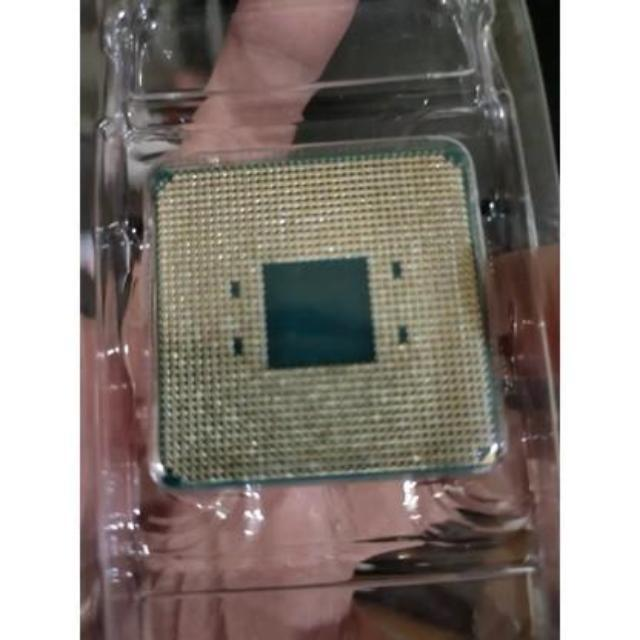CPU: (144, 144, 502, 484)
